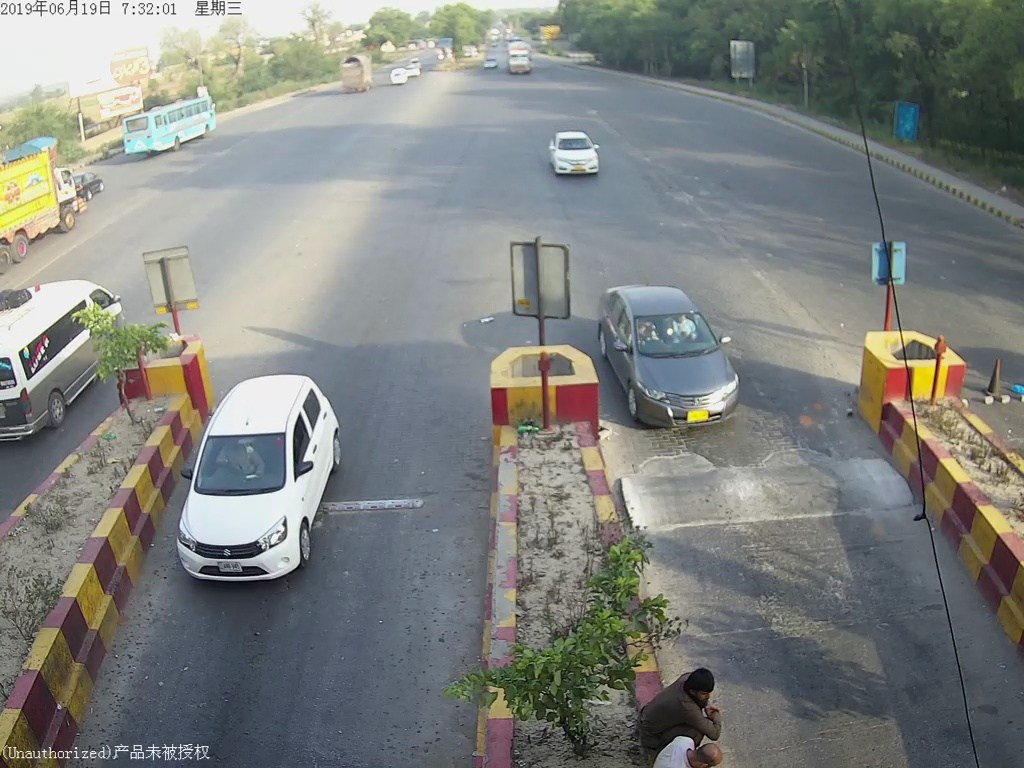Cat-1: (178, 374, 356, 583), (598, 281, 761, 432), (541, 120, 607, 183)
